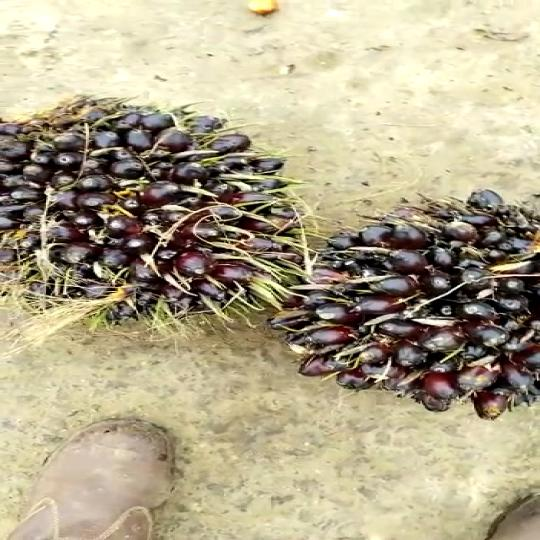mentah: (0, 87, 299, 334), (281, 188, 540, 413)
